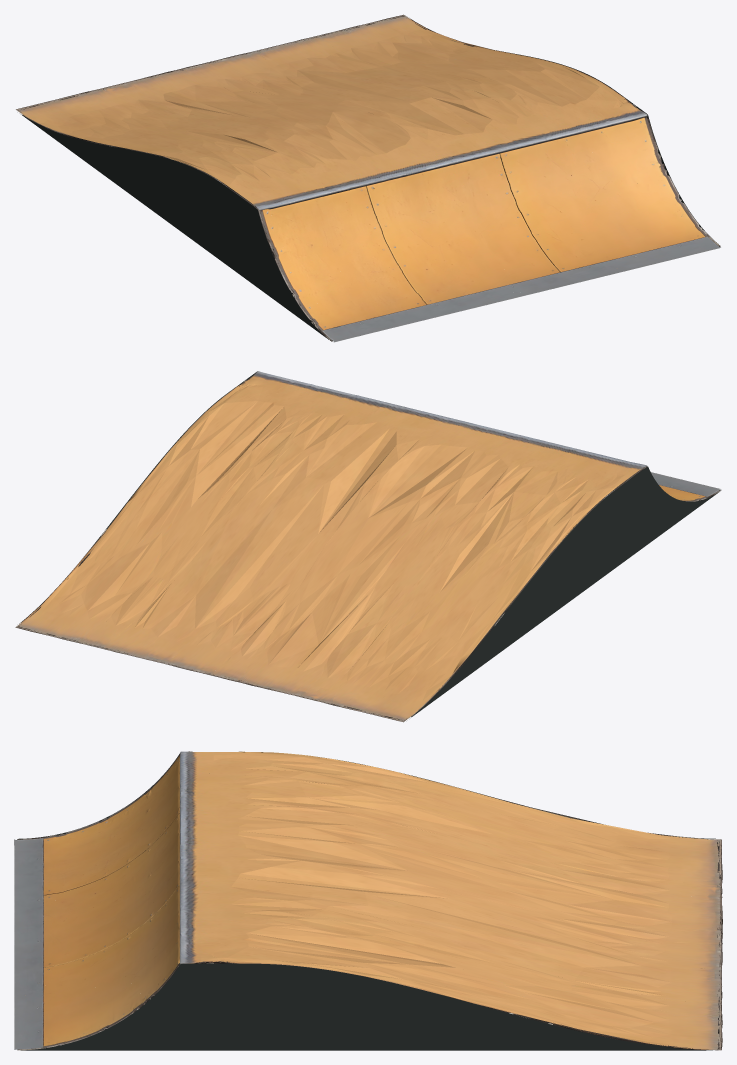
The model's file is large-box.glb.
The picture shows the model from 3 angles, top to bottom: view 1: azimuth 30°, elevation 25°; view 2: azimuth 150°, elevation 25°; view 3: azimuth 270°, elevation 25°; orthographic projection. The views are drawn at different scales.
Visible parts, largest first — view 1: large-box original Tripo mesh fitted, large-box repaired side -1; view 2: large-box original Tripo mesh fitted, large-box repaired side -1; view 3: large-box original Tripo mesh fitted, large-box repaired side 1.
Part boxes in pixels (x1=…): large-box original Tripo mesh fitted: x1=16, y1=14, x2=720, y2=342; large-box repaired side -1: x1=21, y1=114, x2=328, y2=339; large-box original Tripo mesh fitted: x1=15, y1=371, x2=721, y2=722; large-box repaired side -1: x1=411, y1=466, x2=718, y2=717; large-box original Tripo mesh fitted: x1=14, y1=751, x2=722, y2=1050; large-box repaired side 1: x1=21, y1=963, x2=712, y2=1050.
Bounding box in the file's own units: 12.01 × 2.32 × 17.
Materials: 2 (1 with a texture image).
